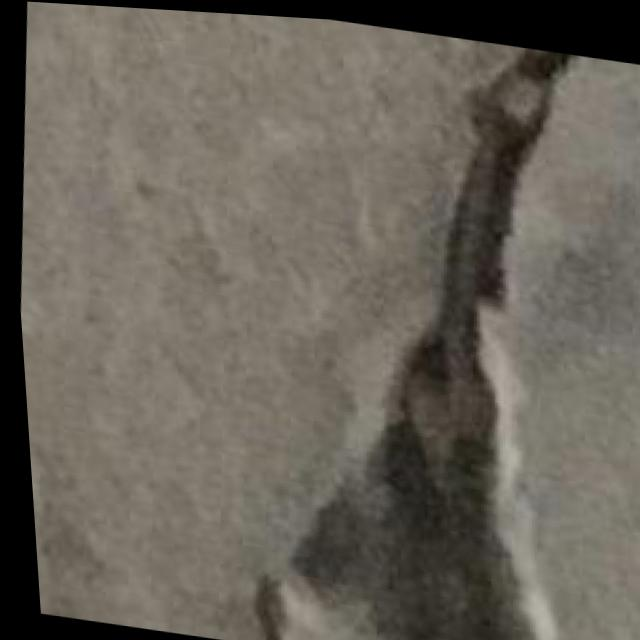Crack: (220, 18, 612, 640)
